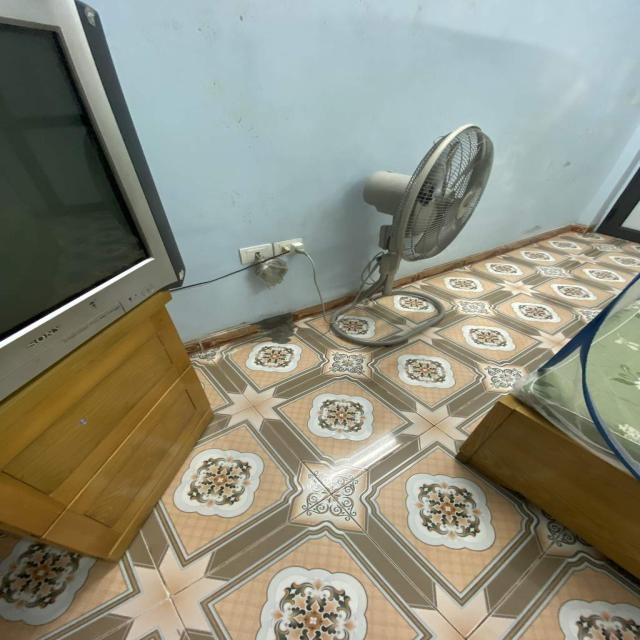outlet: (238, 243, 273, 264), (274, 237, 305, 257)
